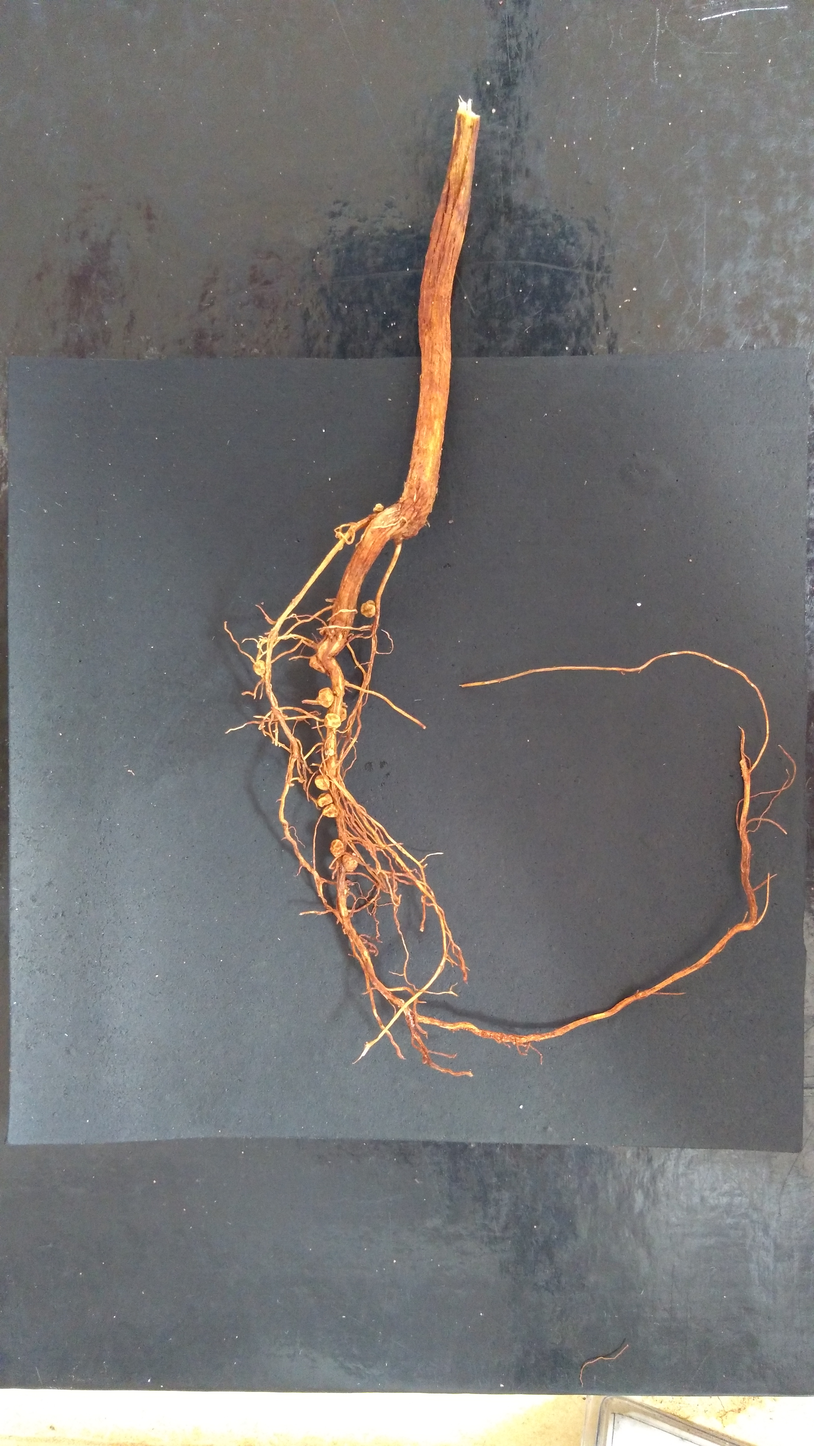nodule: (317, 686, 335, 709), (321, 712, 344, 730), (359, 599, 377, 620), (328, 838, 345, 859), (314, 773, 332, 792), (308, 655, 326, 674), (320, 803, 339, 819), (342, 854, 358, 872), (316, 792, 333, 808), (251, 659, 266, 677), (372, 503, 385, 514), (339, 707, 347, 722), (324, 747, 335, 757)
